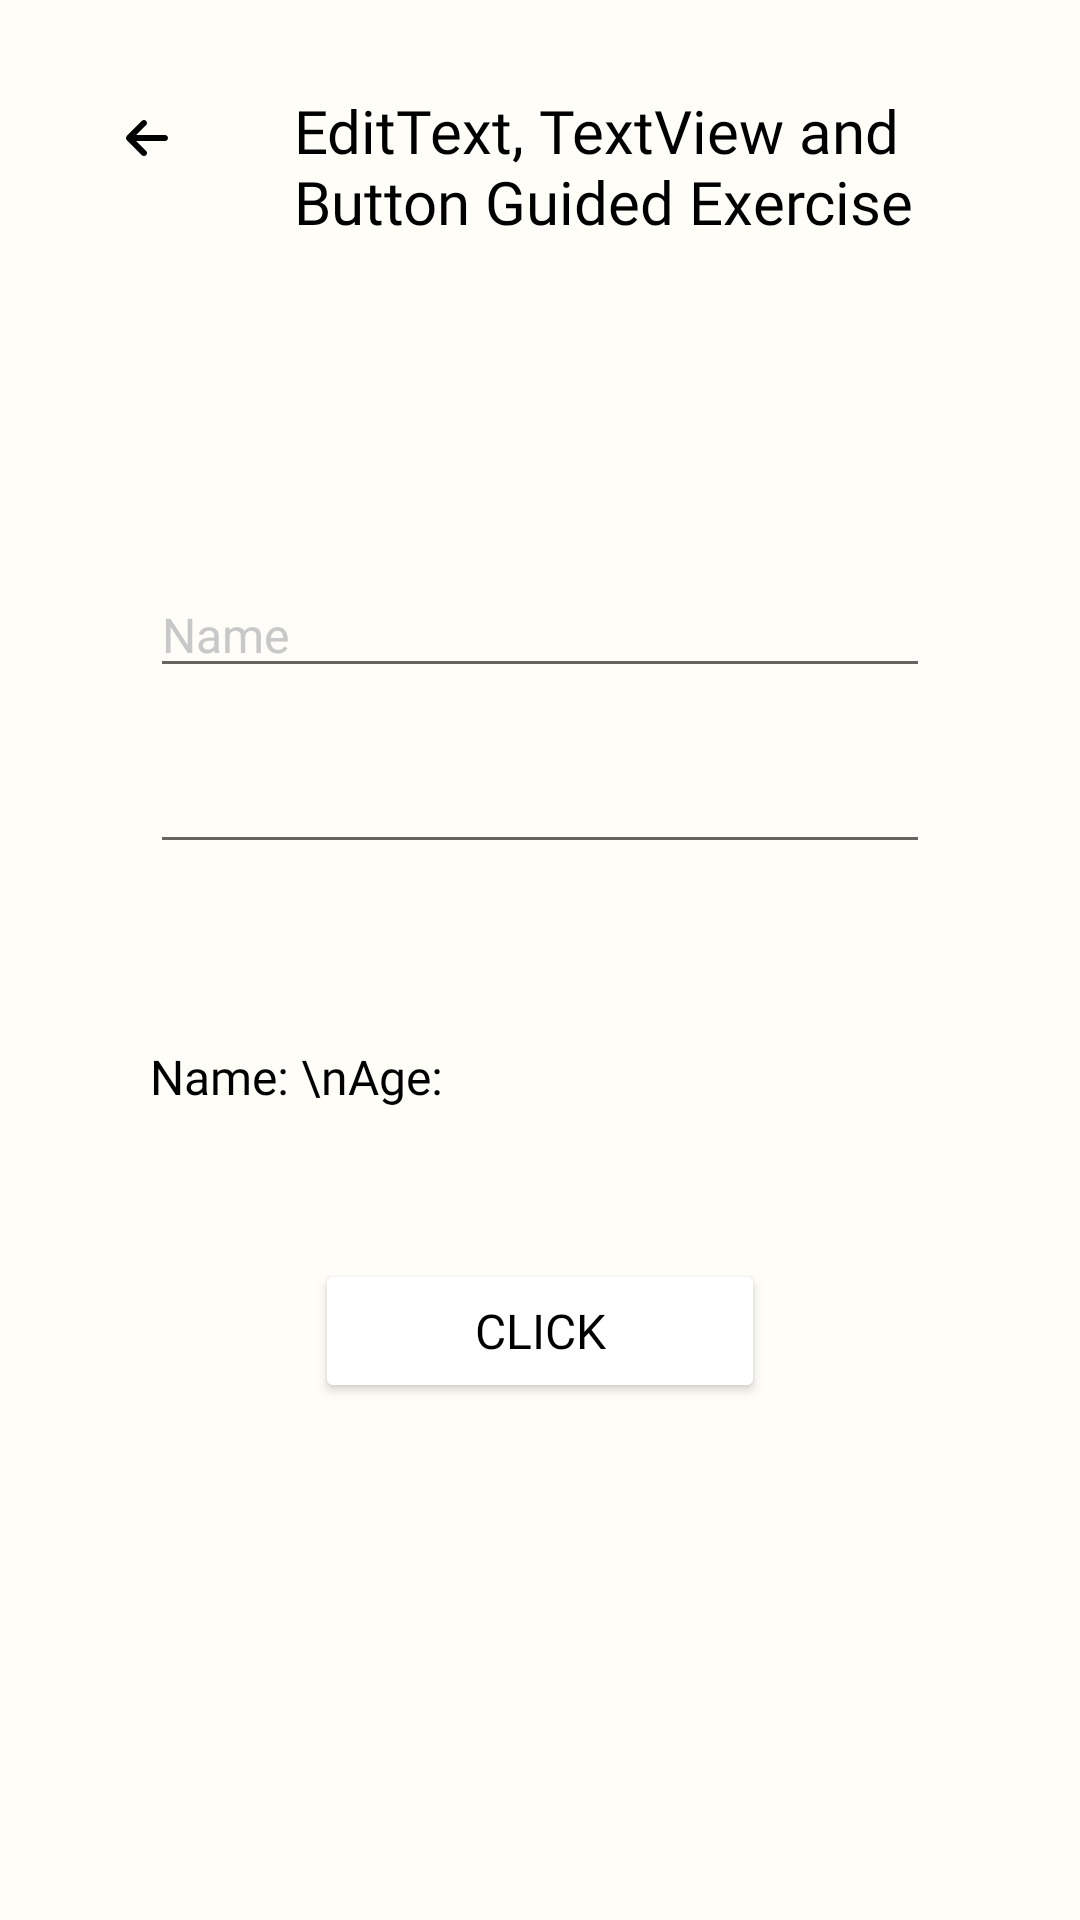

Locate icon controls on the screen. Image size 1080 × 1920, boxes as {"x1": x1, "y1": y1, "x2": x2, "y2": y2}.
backarrow: {"x1": 126, "y1": 120, "x2": 168, "y2": 156}
